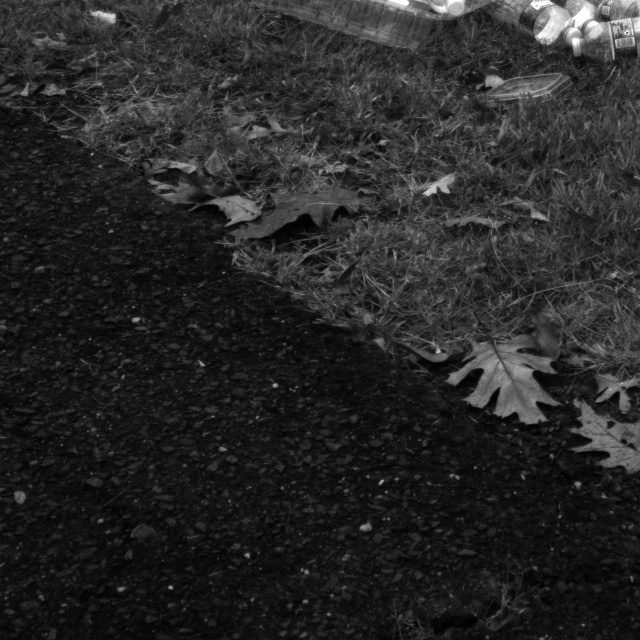bottle: (488, 0, 599, 64), (564, 15, 640, 61)
container: (247, 0, 488, 59), (471, 59, 577, 104)
